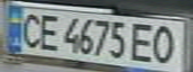4: (60, 15, 81, 54)
5: (106, 18, 133, 61)
6: (78, 16, 96, 56)
7: (90, 16, 112, 57)
C: (15, 10, 45, 49)
E: (127, 20, 160, 64), (33, 11, 63, 52)
O: (148, 21, 181, 65)
